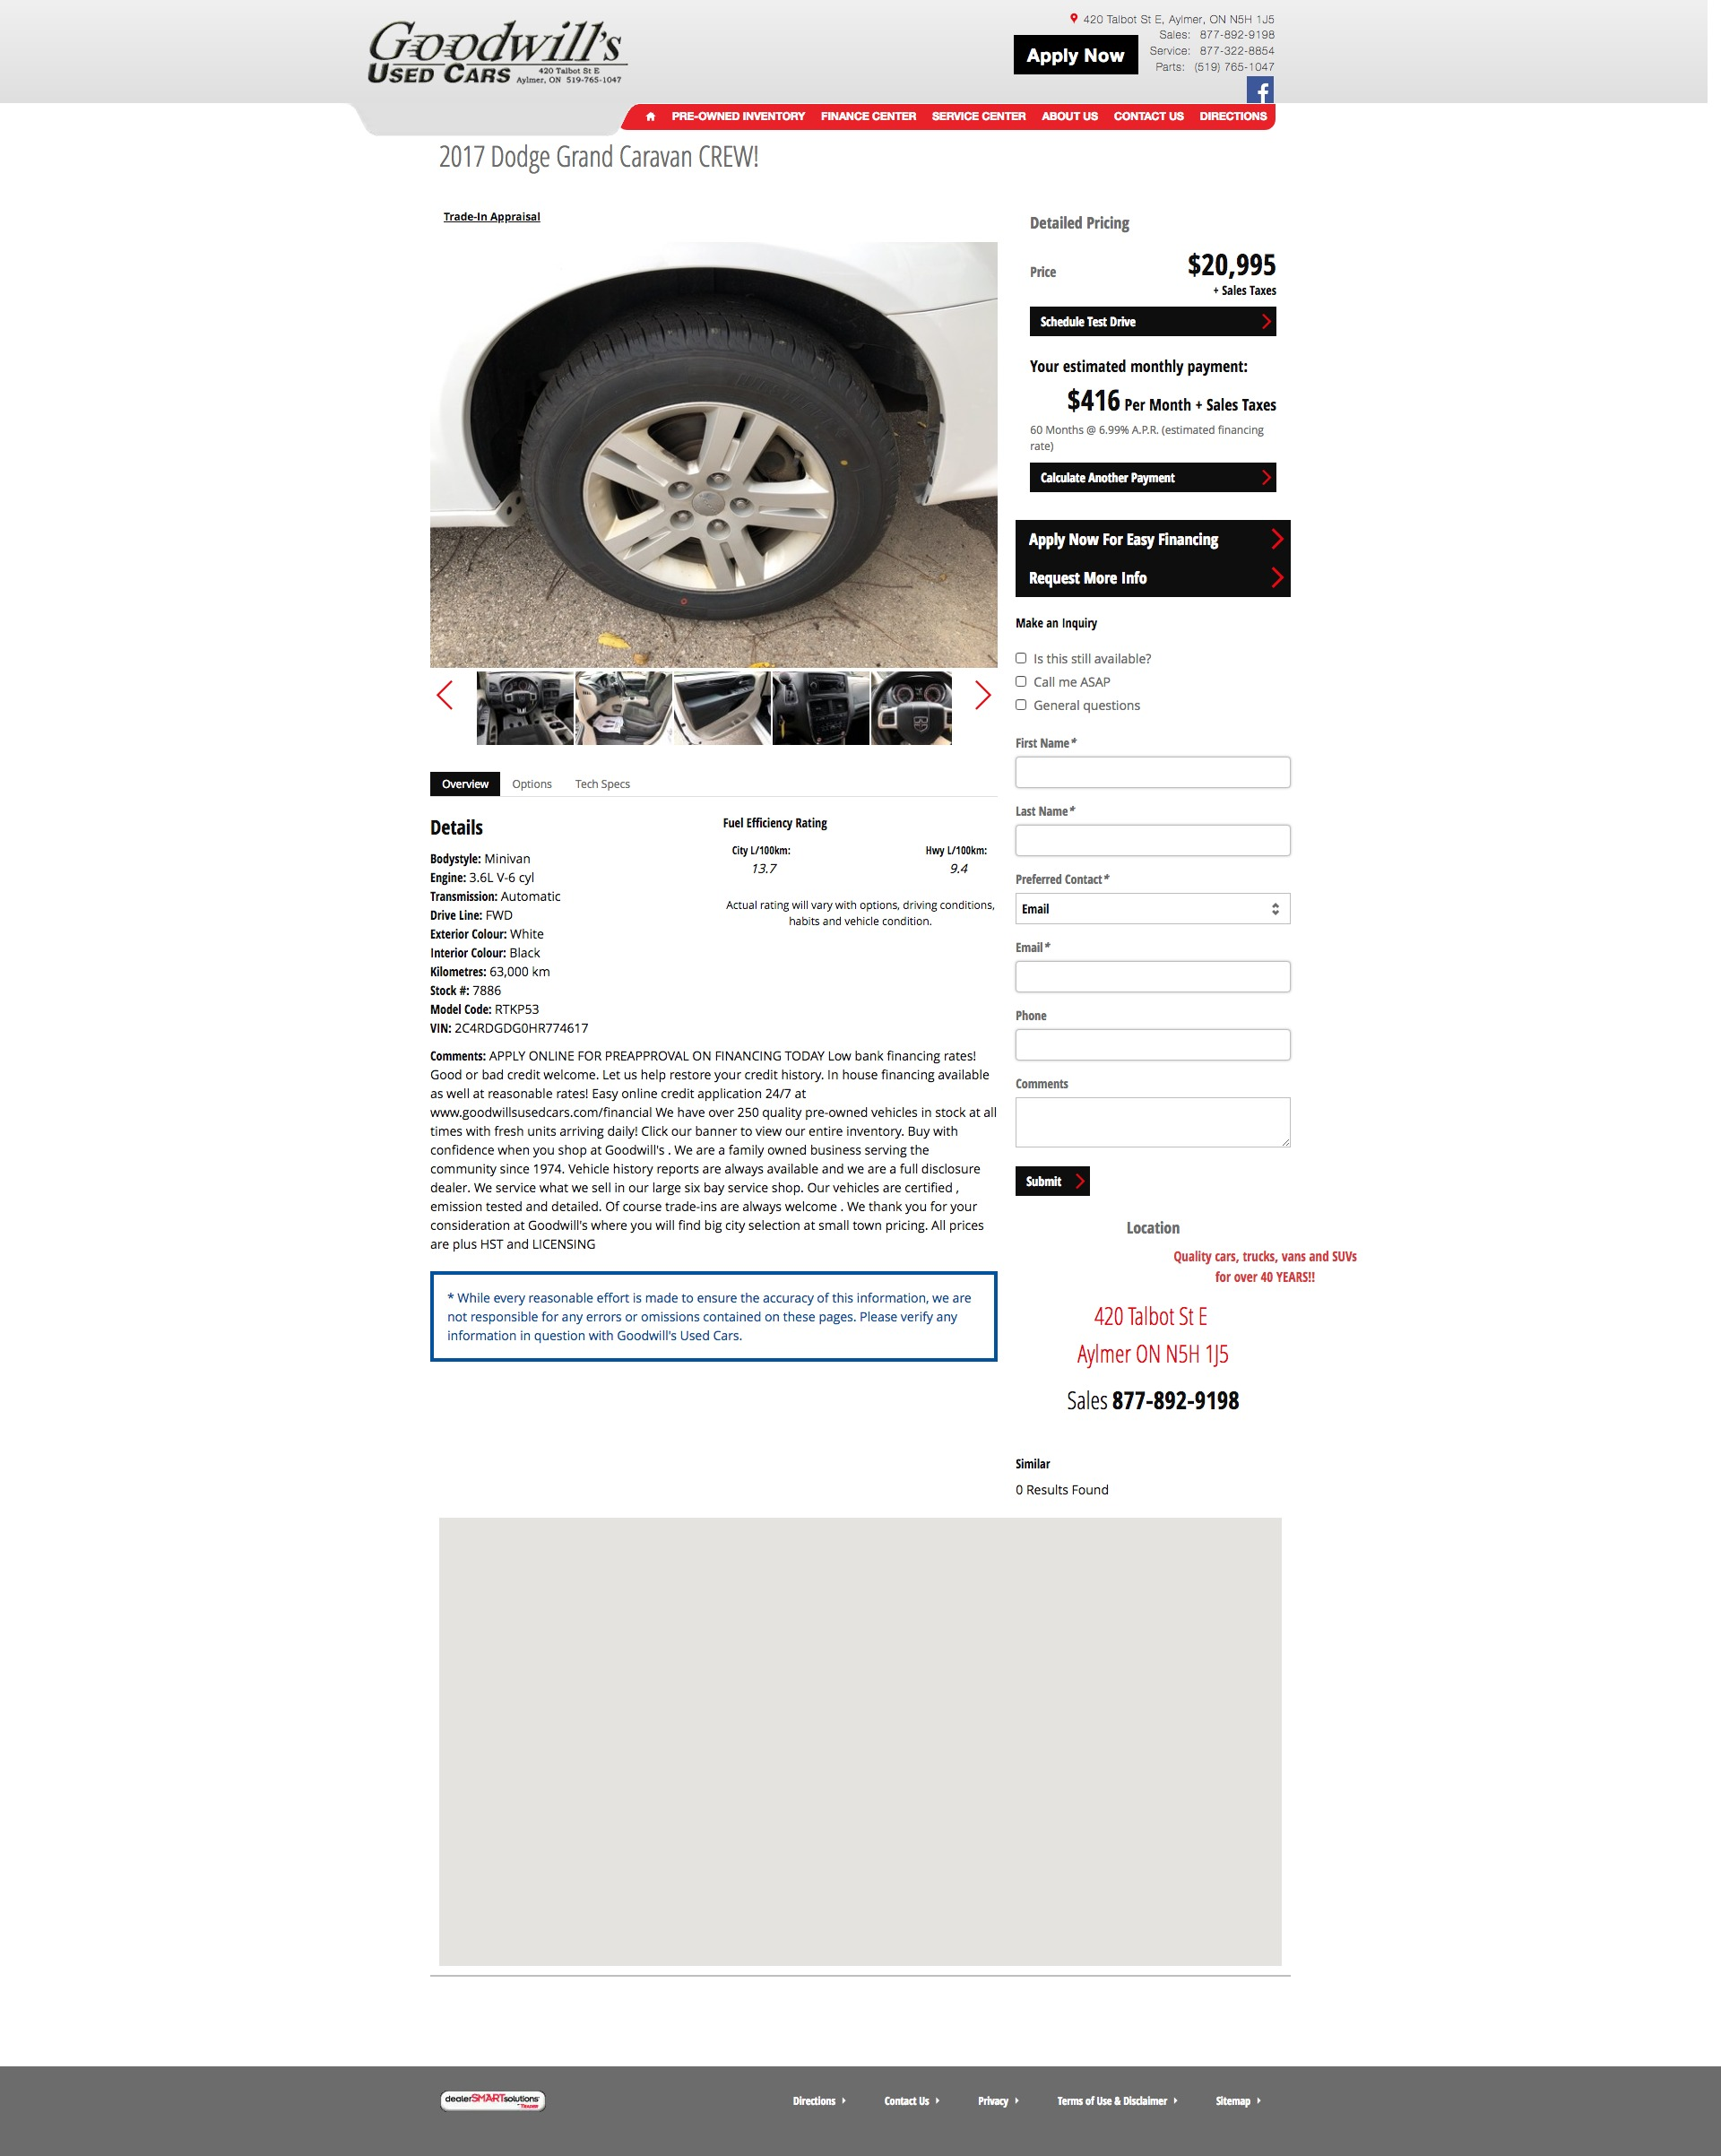car: (975, 681, 992, 711)
